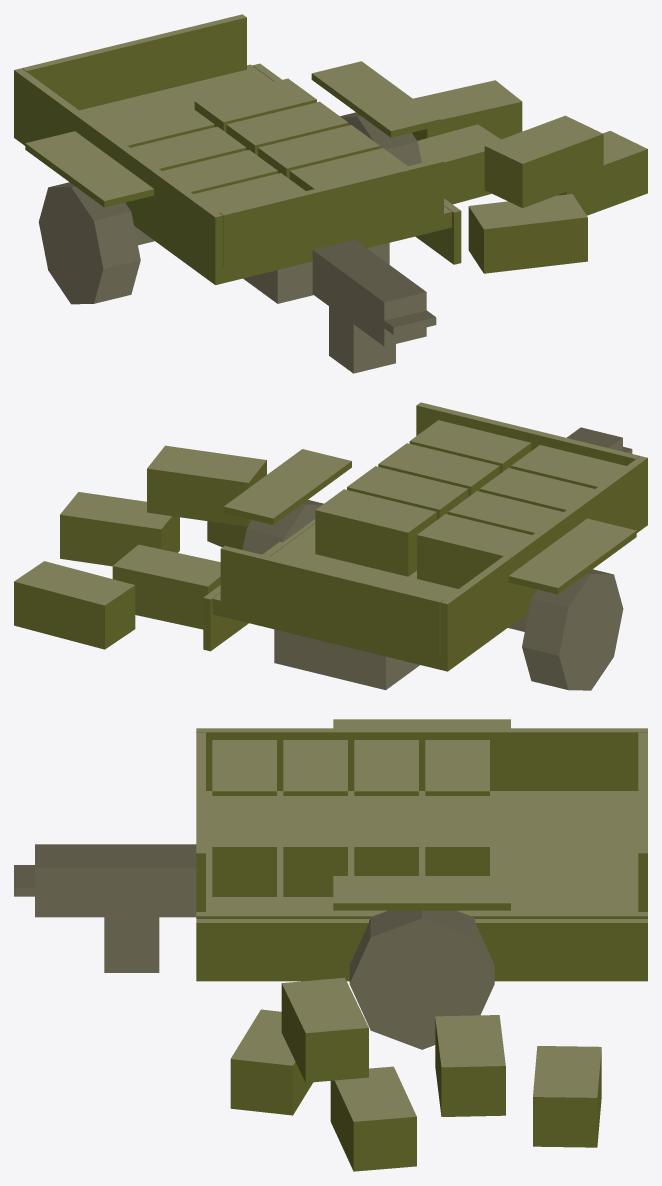
File: SM_RemolqueMunicion_v2_Descargando_LOD1.fbx
3 renders of one model, top to bottom at view 1: azimuth 30°, elevation 25°; view 2: azimuth 150°, elevation 25°; view 3: azimuth 270°, elevation 25°, orthographic. The views are drawn at different scales.
Parts seen in each view (by area): view 1: SM_remolque_municion_v2_LOD1; view 2: SM_remolque_municion_v2_LOD1; view 3: SM_remolque_municion_v2_LOD1.
Boxes of the visible parts, left/top/right/bottom form: SM_remolque_municion_v2_LOD1: left=14, top=14, right=647, bottom=373; SM_remolque_municion_v2_LOD1: left=14, top=402, right=647, bottom=690; SM_remolque_municion_v2_LOD1: left=14, top=719, right=647, bottom=1171.
Bounding box in the file's own units: 4.44 × 1.15 × 3.93.
